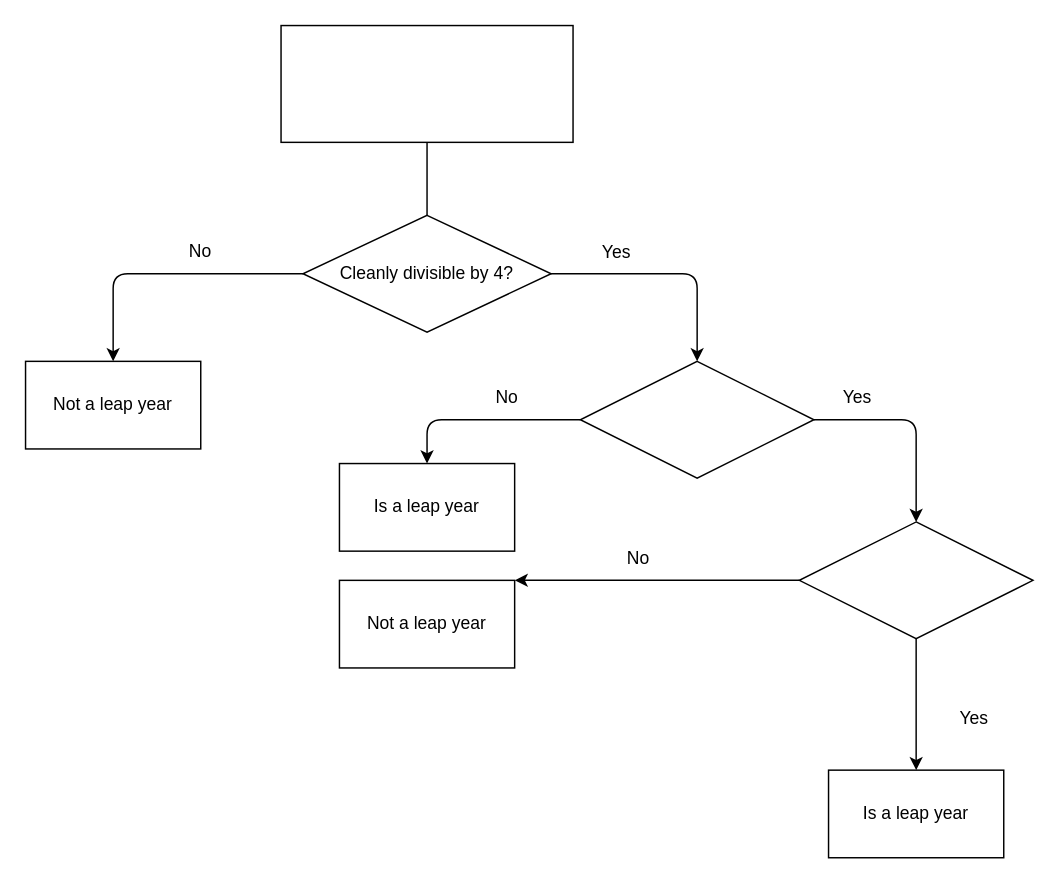
Image size: 1059x883. Some labels were removed from this diagram. Each missing label, with the box of its shape:
Cleanly divisible by 100?: (579, 360, 814, 478)
Cleanly divisible by 400?: (798, 520, 1033, 639)
Start: (280, 24, 573, 142)
